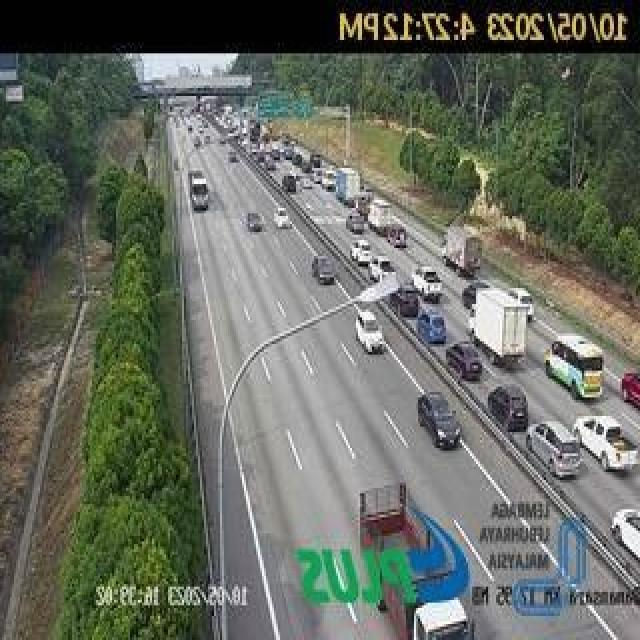Car: (574, 416, 640, 472), (418, 378, 461, 458), (525, 419, 583, 478), (487, 384, 529, 432), (446, 342, 483, 382), (354, 308, 384, 354), (412, 264, 442, 300), (417, 308, 447, 344), (506, 287, 535, 321), (462, 281, 493, 312), (390, 286, 420, 318), (368, 255, 394, 284), (312, 256, 337, 284), (350, 239, 373, 265), (386, 224, 407, 247), (346, 211, 365, 233), (273, 206, 291, 229), (246, 212, 264, 232)
Truck: (344, 479, 482, 640), (468, 298, 533, 361), (435, 226, 489, 272), (183, 170, 216, 217), (332, 170, 366, 206)
Van: (536, 332, 610, 408)
